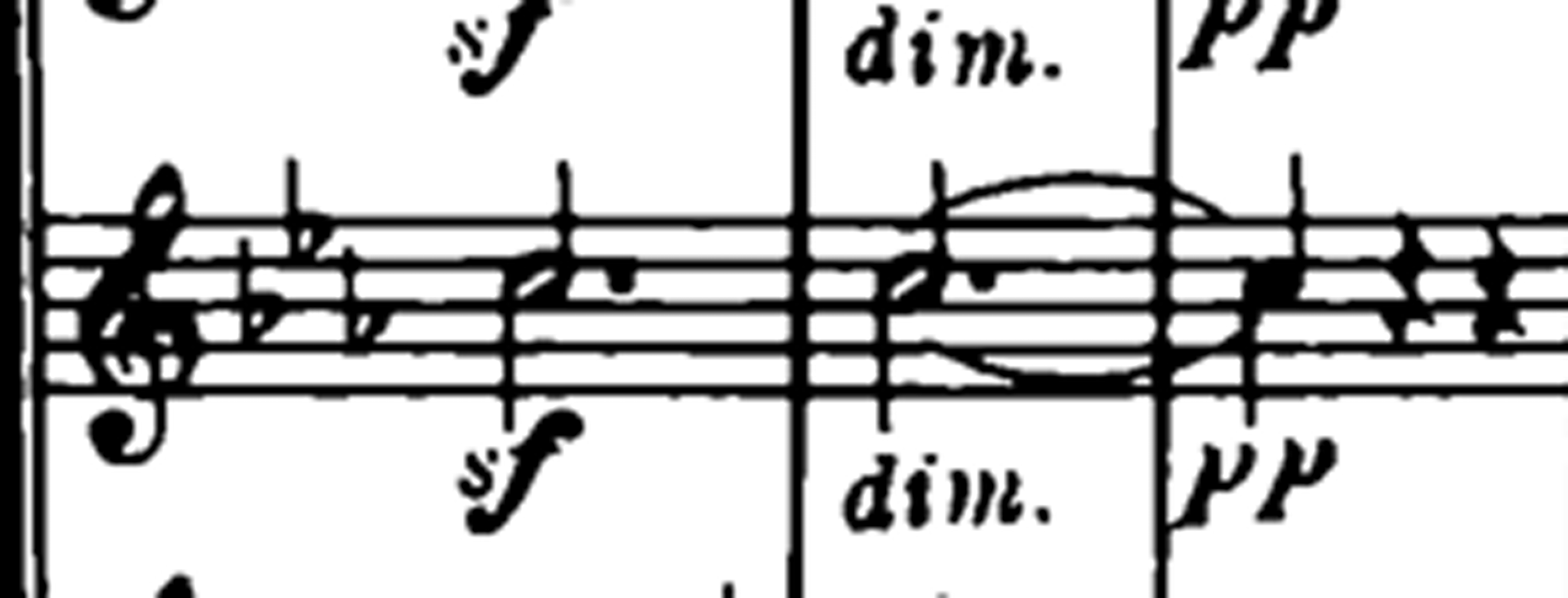clefG: (55, 128, 217, 480)
noteheadBlackInSpace: (510, 0, 548, 24)
restHBar: (216, 355, 1391, 439), (6, 269, 1156, 336)
